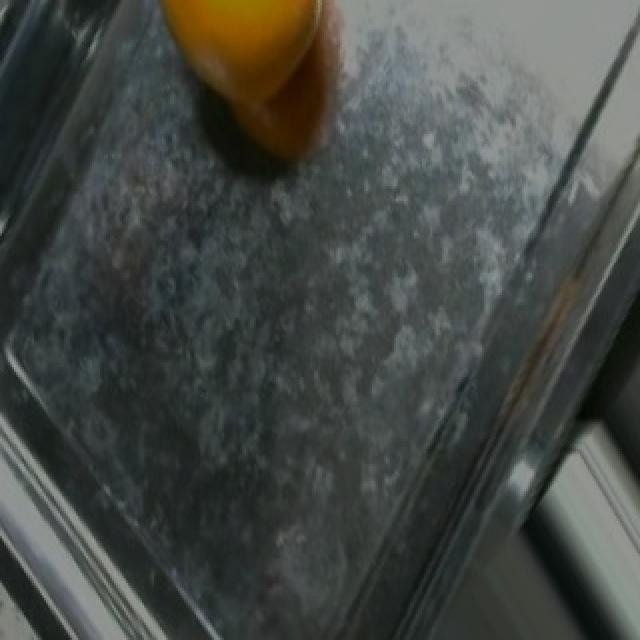Fruit: (132, 2, 366, 132)
